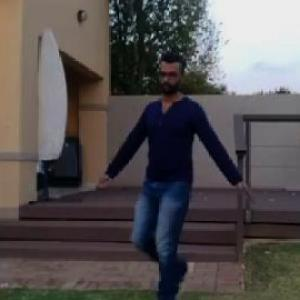land: (107, 65, 252, 299)
